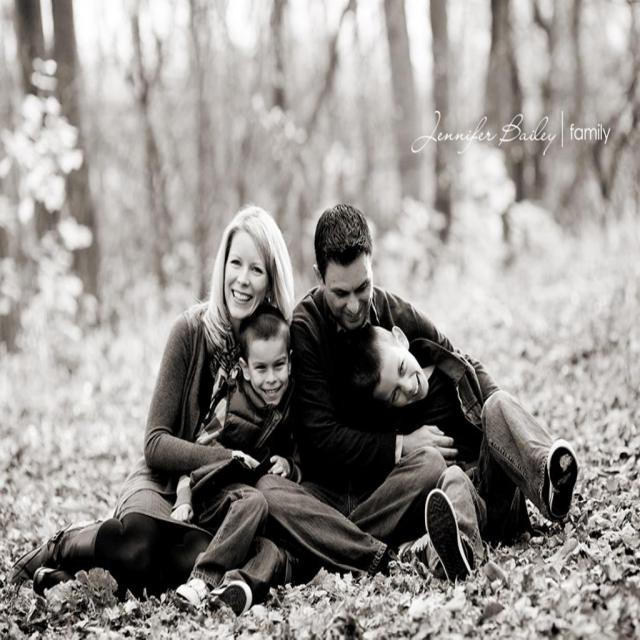nomask: (321, 243, 375, 339), (371, 341, 429, 409), (248, 330, 292, 408), (225, 234, 264, 315)
